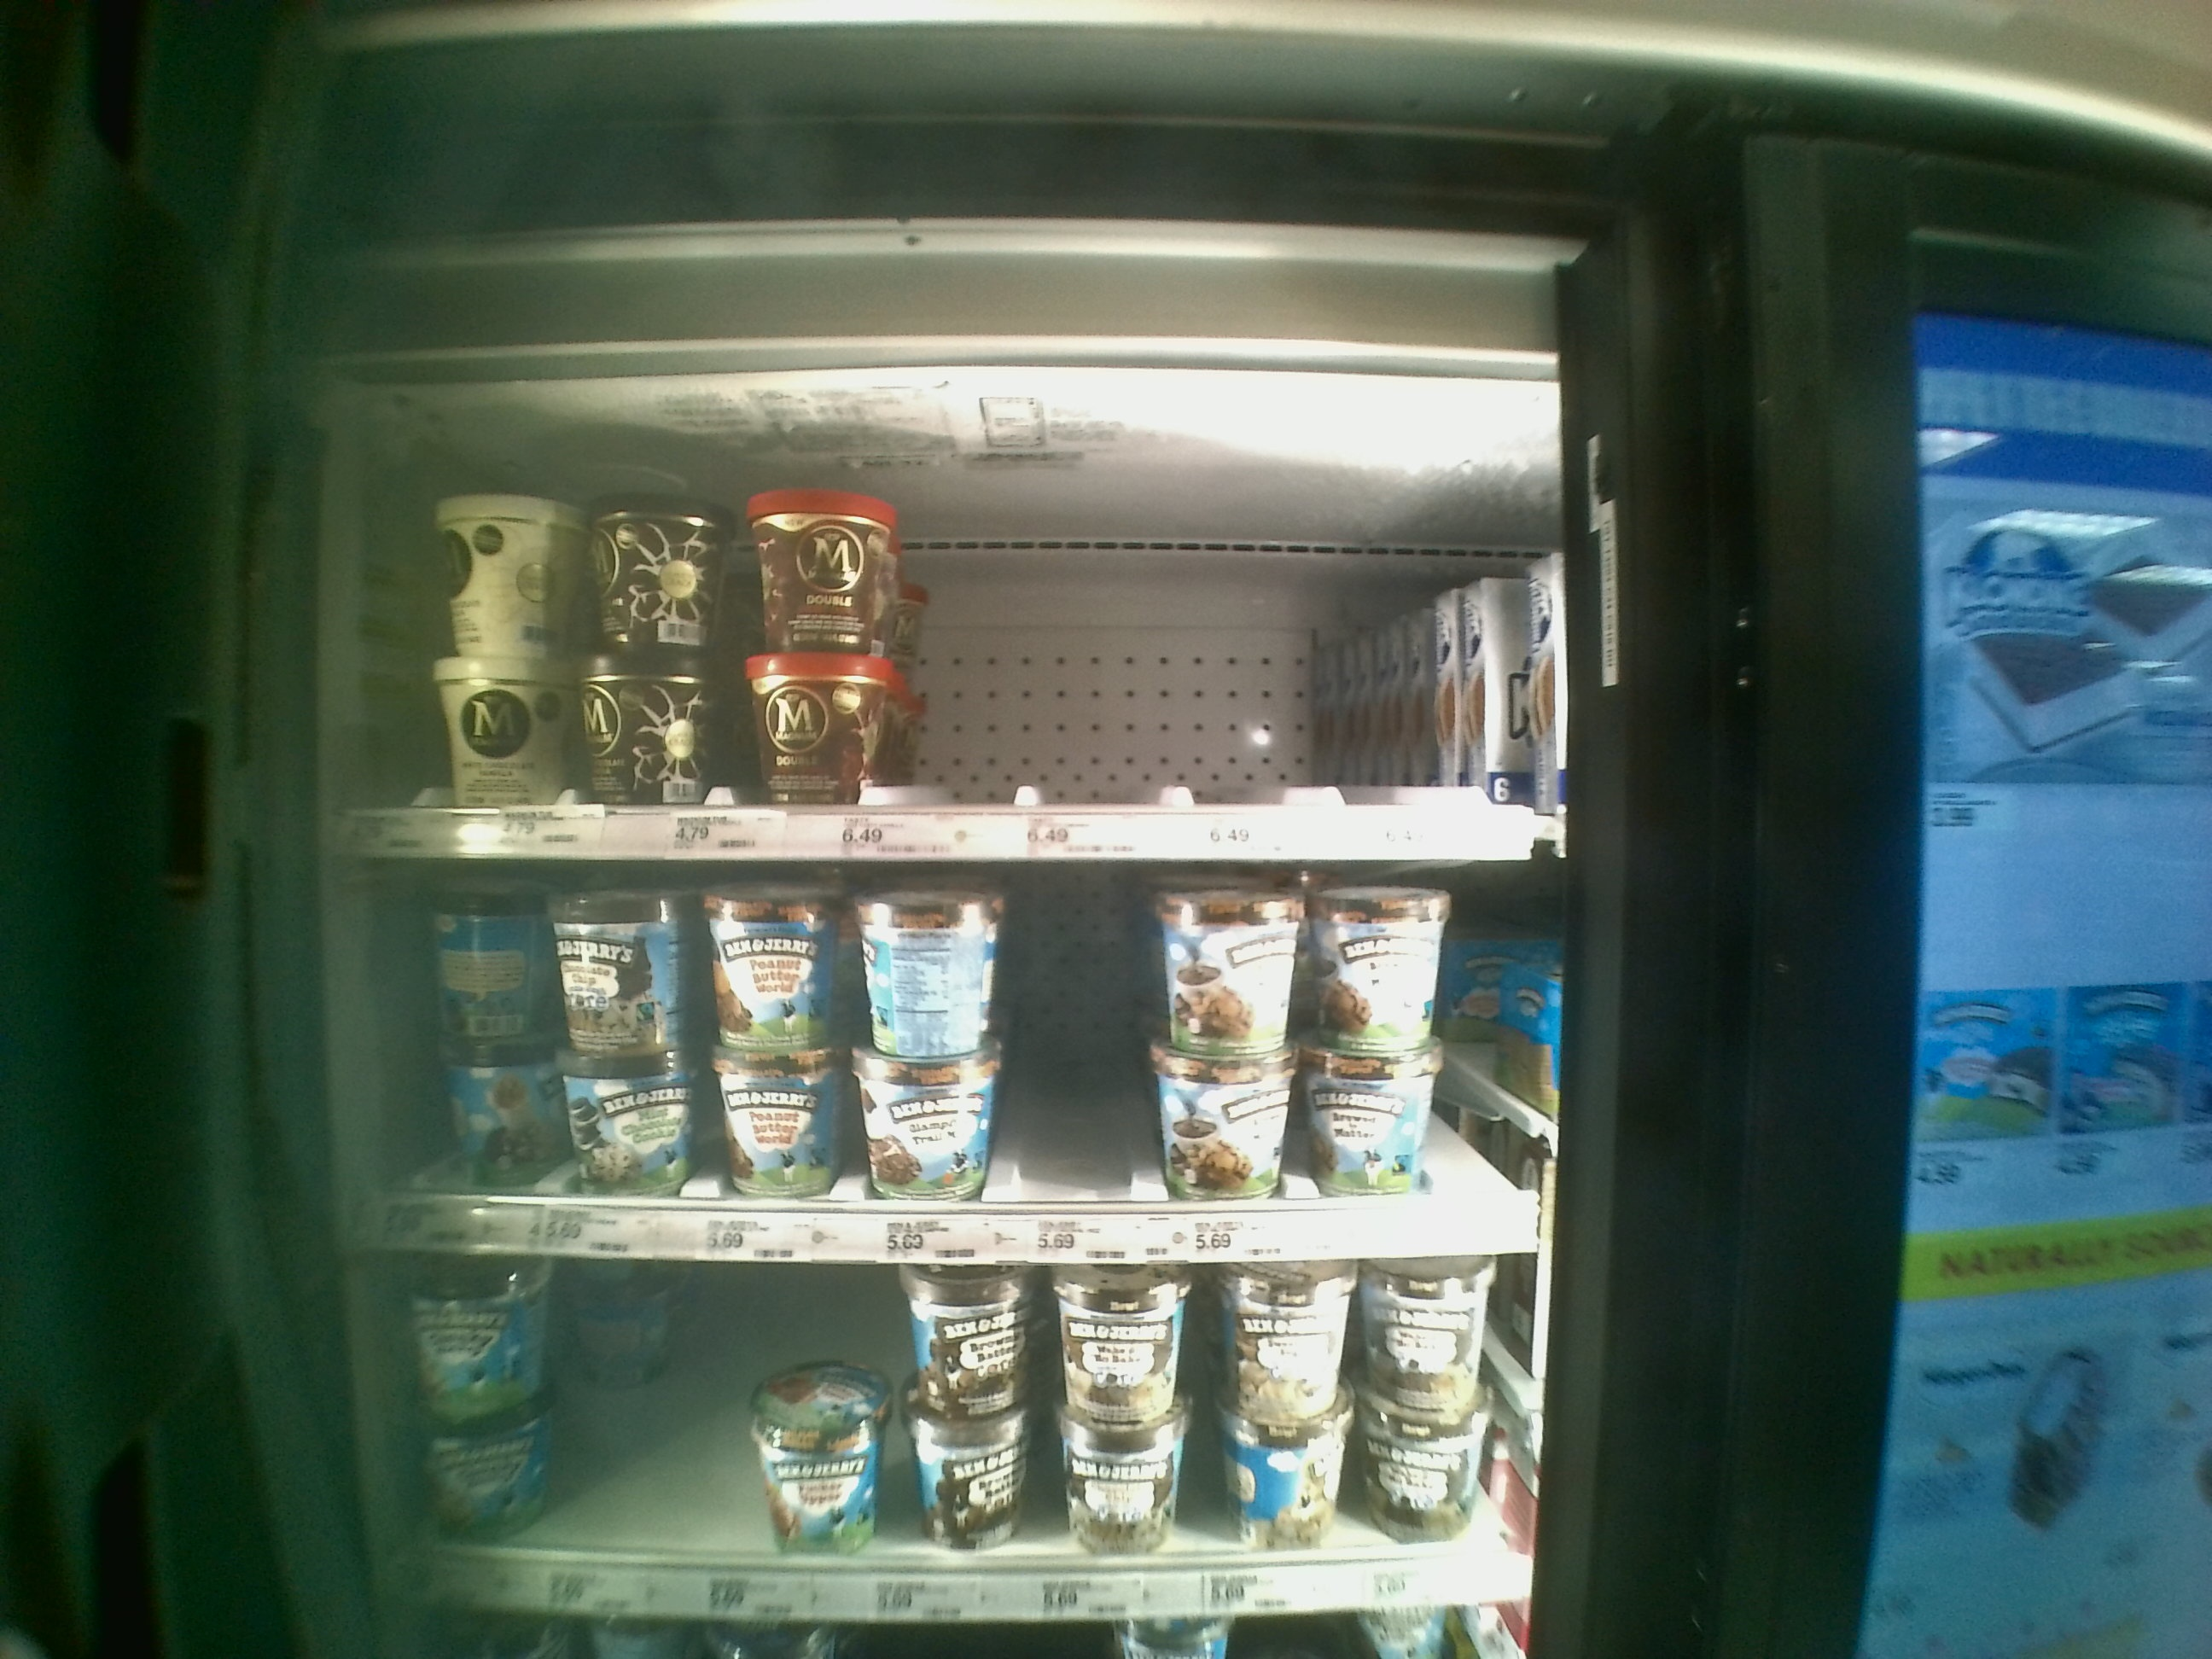ice-cream-shelf: (320, 413, 1566, 859), (331, 868, 1559, 1253), (343, 1251, 1541, 1622)
